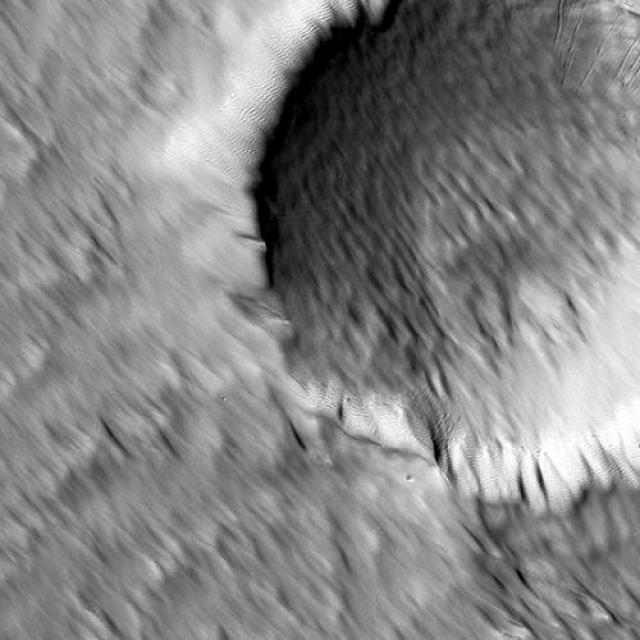crater: (169, 0, 640, 530)
